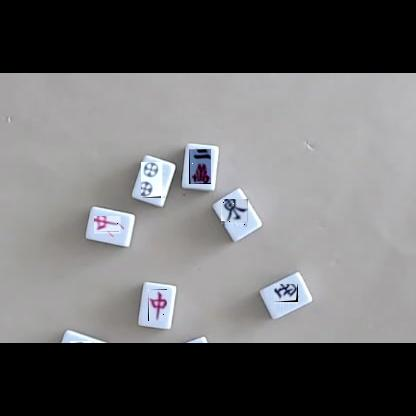1z: (221, 200, 248, 227)
2m: (189, 149, 211, 184)
2p: (142, 162, 166, 198)
3z: (274, 285, 298, 307), (70, 341, 92, 343)
7z: (148, 289, 167, 321), (95, 217, 124, 237)
